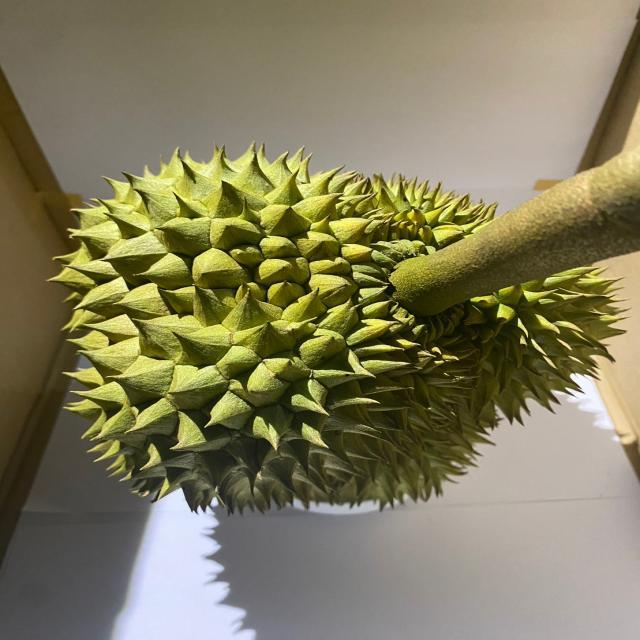immature: (44, 142, 630, 516)
